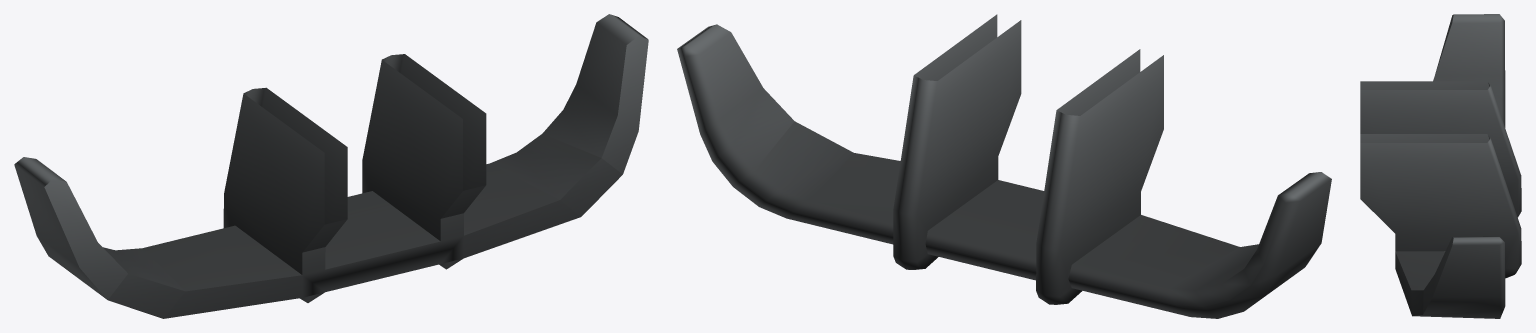
Rendered from Car_08_RearBumper_Simple.fbx.
The picture shows the model from 3 angles, left to right: view 1: azimuth 30°, elevation 25°; view 2: azimuth 150°, elevation 25°; view 3: azimuth 270°, elevation 25°; orthographic projection. The views are drawn at different scales.
Visible parts, largest first — view 1: Car_08_RearBumper_Simple; view 2: Car_08_RearBumper_Simple; view 3: Car_08_RearBumper_Simple.
Boxes of the visible parts, left/top/right/bottom form: Car_08_RearBumper_Simple: left=14, top=14, right=648, bottom=318; Car_08_RearBumper_Simple: left=677, top=14, right=1331, bottom=318; Car_08_RearBumper_Simple: left=1360, top=14, right=1521, bottom=318.
Bounding box in the file's own units: 171 × 50.51 × 47.92.
